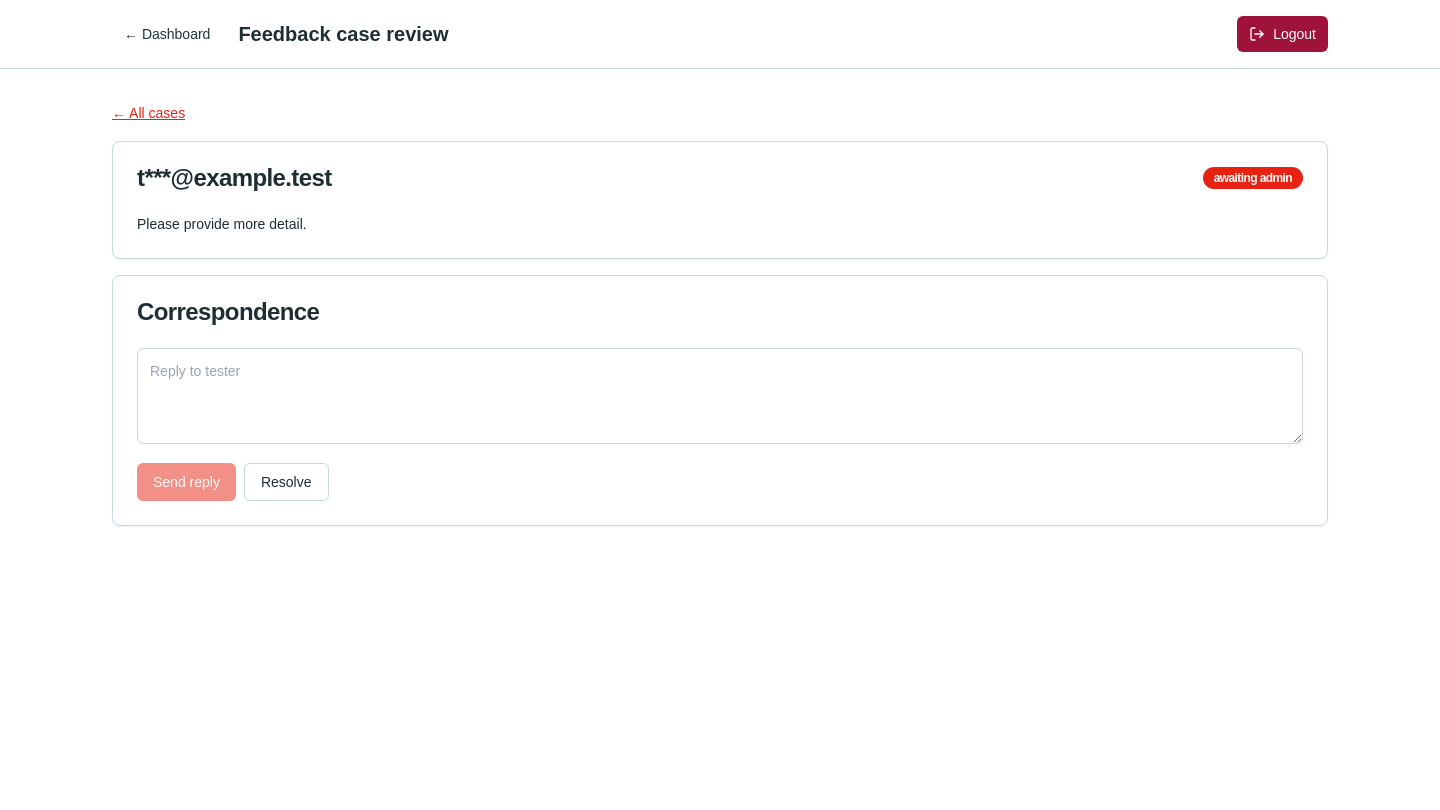
AdminFeedbackCasesPage › shows an error when case resolution fails
Click the button "Resolve".
click(286, 482)  # box left=244, top=463, right=328, bottom=501
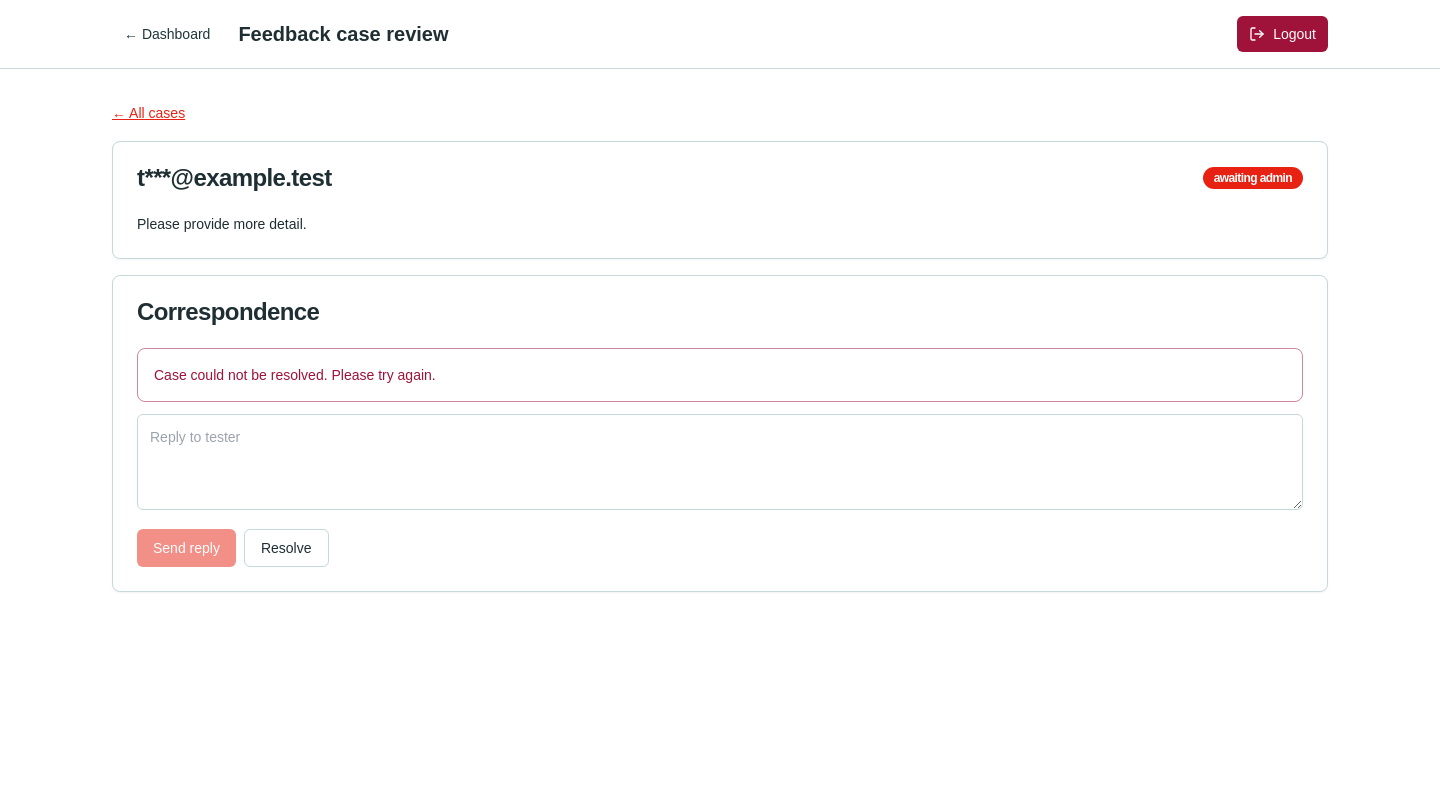
Expected: the button "Resolve" is enabled, left=244, top=529, right=328, bottom=567
Now the message shows "Case could not be resolved", box left=154, top=367, right=436, bottom=383
